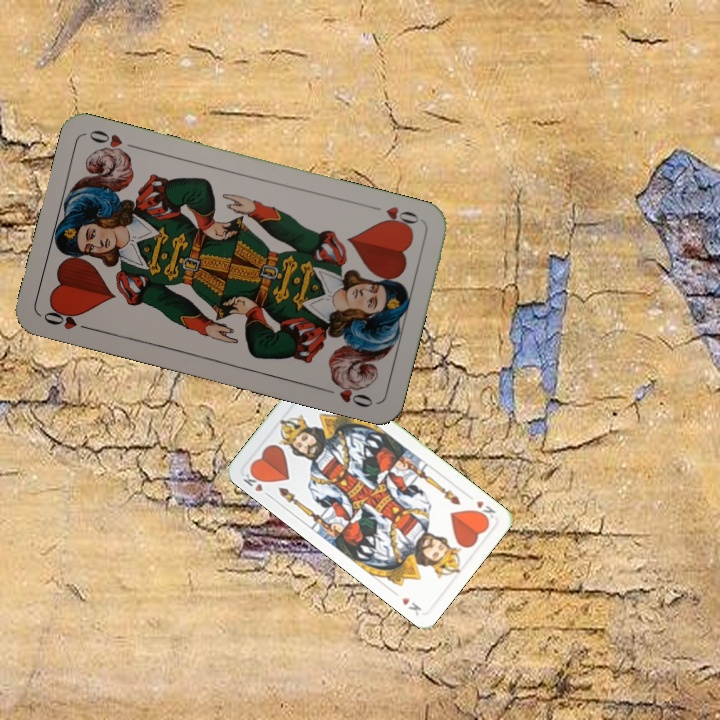HK: (239, 465, 274, 500), (470, 497, 498, 525)
HO: (366, 201, 422, 233), (39, 303, 96, 334)
